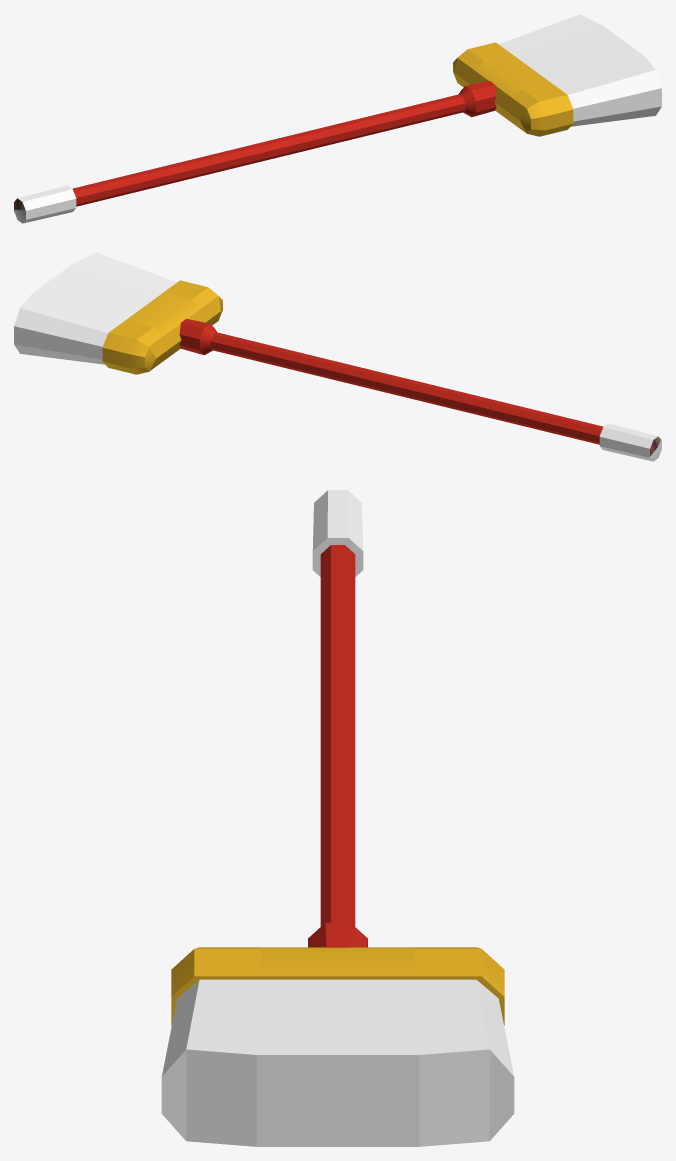
The model's file is cleaning_vroom.glb.
3 renders of one model, top to bottom at view 1: azimuth 30°, elevation 25°; view 2: azimuth 150°, elevation 25°; view 3: azimuth 270°, elevation 25°, orthographic. The views are drawn at different scales.
Parts seen in each view (by area): view 1: mesh_mop_01; view 2: mesh_mop_01; view 3: mesh_mop_01.
Part boxes in pixels (x1,y1,x2,y2): mesh_mop_01: (14,14,661,223); mesh_mop_01: (14,252,661,461); mesh_mop_01: (161,490,514,1146).
Bounding box in the file's own units: 1.66 × 0.1201 × 0.4176.
1 material, 1 textured.
